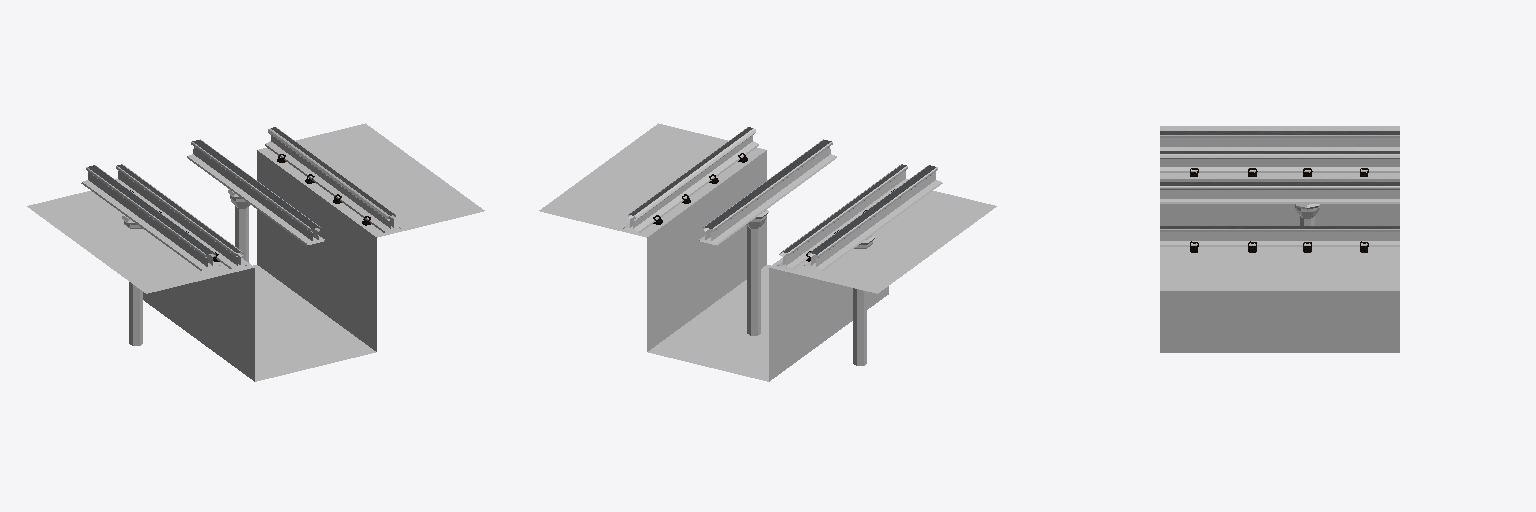
3 renders of one model, left to right at view 1: azimuth 30°, elevation 25°; view 2: azimuth 150°, elevation 25°; view 3: azimuth 270°, elevation 25°, orthographic.
Visible parts, largest first — view 1: Cube.001, Full_LOD0_LOD0.031, Full_LOD0_LOD0.019, Full_LOD0_LOD0.022, Sphere.006, Sphere.007; view 2: Cube.001, Full_LOD0_LOD0.031, Full_LOD0_LOD0.019, Full_LOD0_LOD0.022, Sphere.007, Sphere.006; view 3: Cube.001, Full_LOD0_LOD0.031, Full_LOD0_LOD0.022, Full_LOD0_LOD0.019.
Part boxes in pixels (left/top/right/bottom): Cube.001: left=27, top=123, right=484, bottom=381; Full_LOD0_LOD0.031: left=115, top=127, right=400, bottom=269; Full_LOD0_LOD0.019: left=81, top=165, right=219, bottom=270; Full_LOD0_LOD0.022: left=187, top=139, right=324, bottom=245; Sphere.006: left=122, top=215, right=142, bottom=345; Sphere.007: left=228, top=189, right=249, bottom=262; Cube.001: left=539, top=123, right=996, bottom=381; Full_LOD0_LOD0.031: left=623, top=127, right=908, bottom=269; Full_LOD0_LOD0.019: left=804, top=165, right=942, bottom=270; Full_LOD0_LOD0.022: left=699, top=139, right=836, bottom=245; Sphere.007: left=746, top=209, right=768, bottom=335; Sphere.006: left=853, top=235, right=874, bottom=365; Cube.001: left=1160, top=126, right=1399, bottom=352; Full_LOD0_LOD0.031: left=1160, top=151, right=1399, bottom=246; Full_LOD0_LOD0.022: left=1160, top=182, right=1399, bottom=203; Full_LOD0_LOD0.019: left=1160, top=131, right=1399, bottom=150.
Bounding box in the file's own units: 3.34 × 1.35 × 2.04.
Materials: 5 (2 with a texture image).